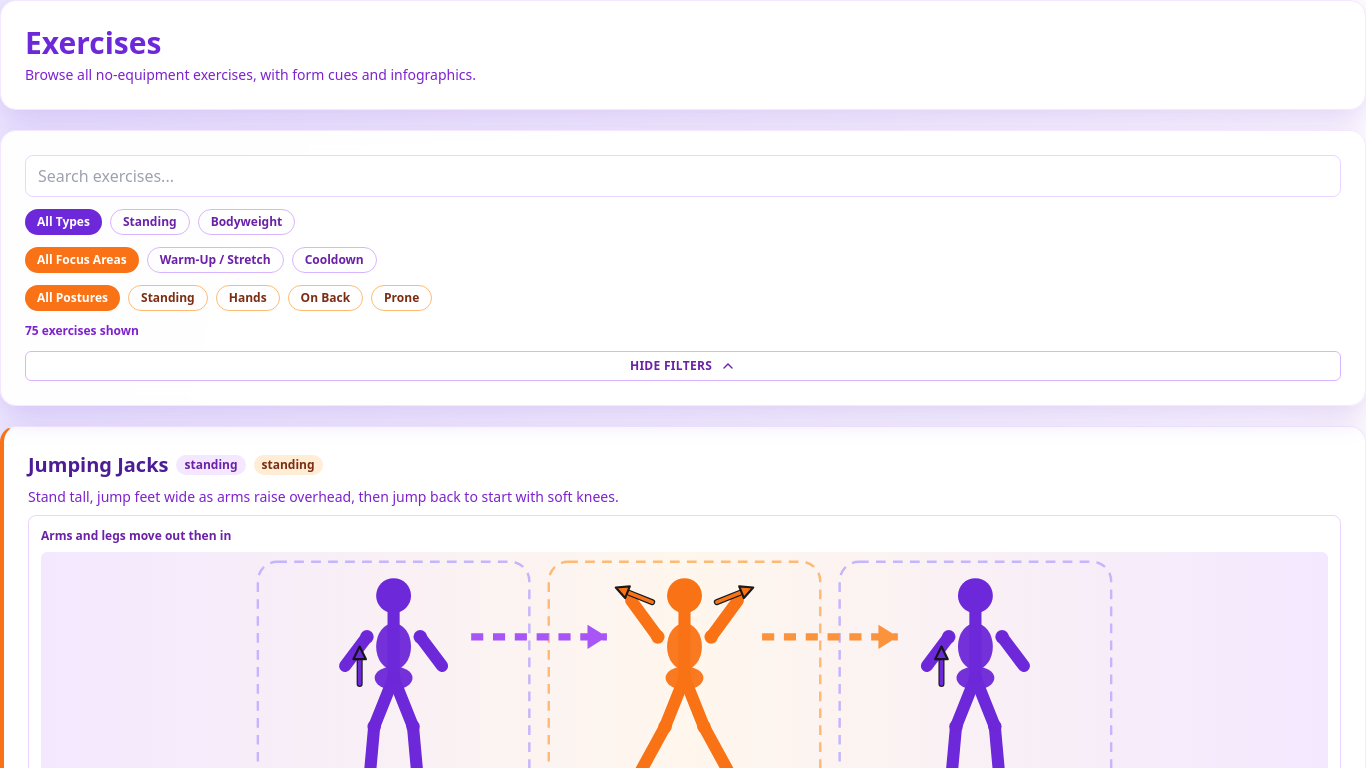
Test case: ExerciseList page › shows warm-up/stretch exercises when focus filter is selected
Click the button "Warm-Up / Stretch": click(215, 260) x1=147 y1=247 x2=284 y2=273
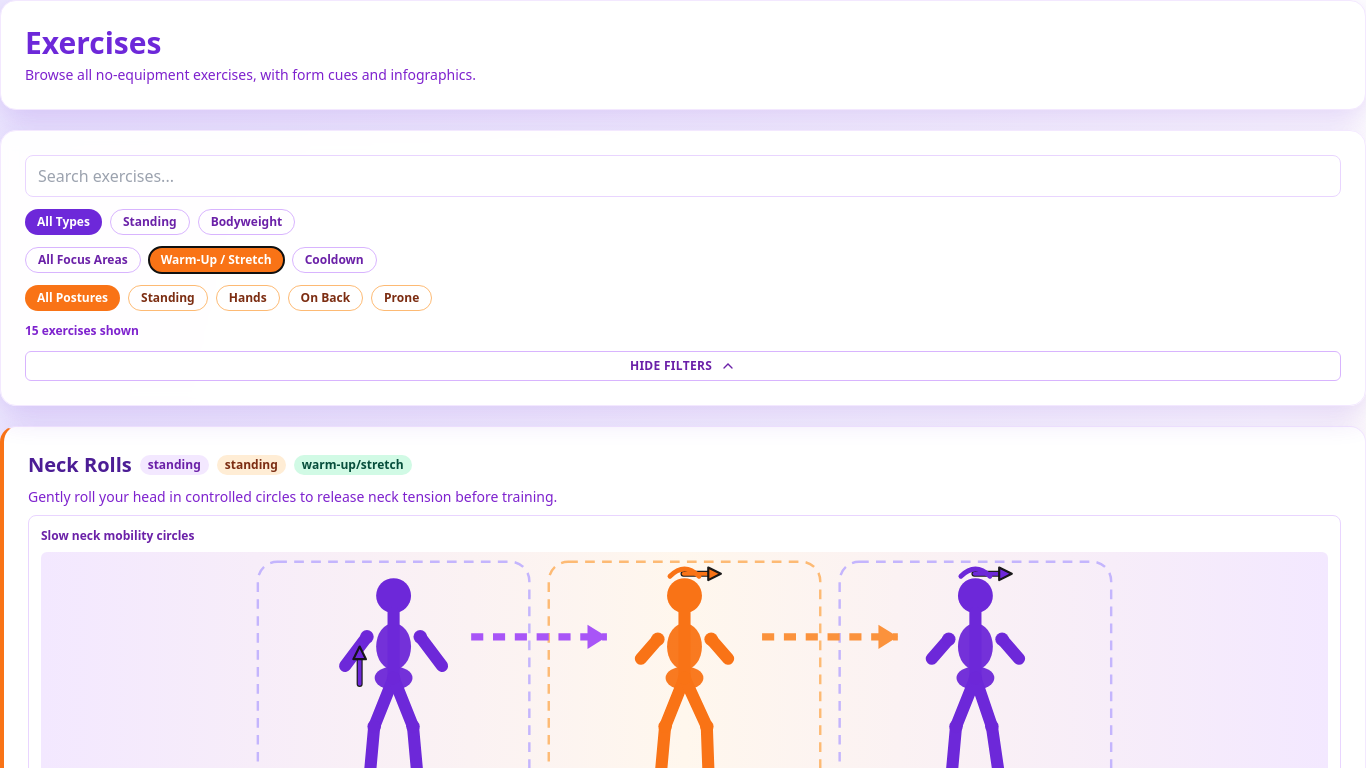
Expected: the heading "Neck Rolls" is shown, x1=28 y1=451 x2=132 y2=479
Expected: the text "warm-up/stretch" is shown, x1=294 y1=455 x2=412 y2=475
